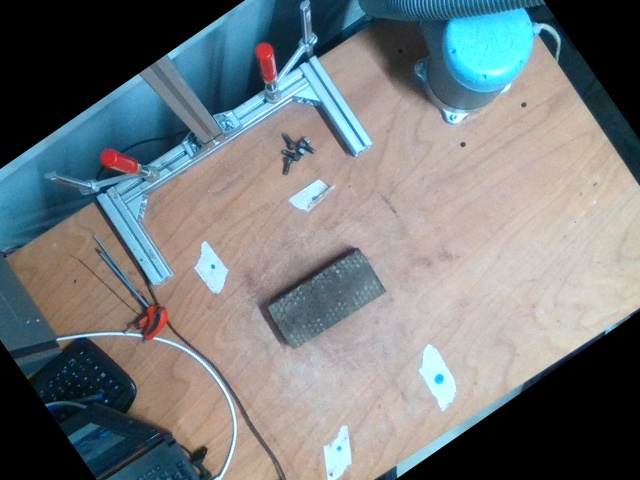brick: (265, 251, 385, 351)
